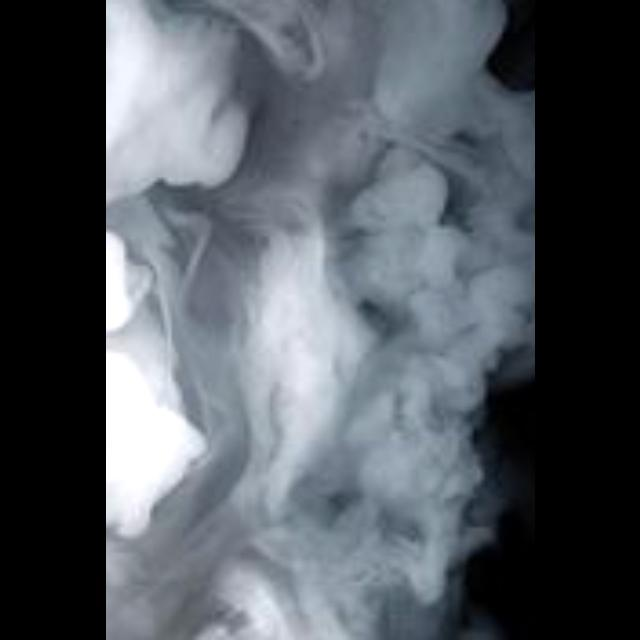smoke: (105, 0, 534, 640)
